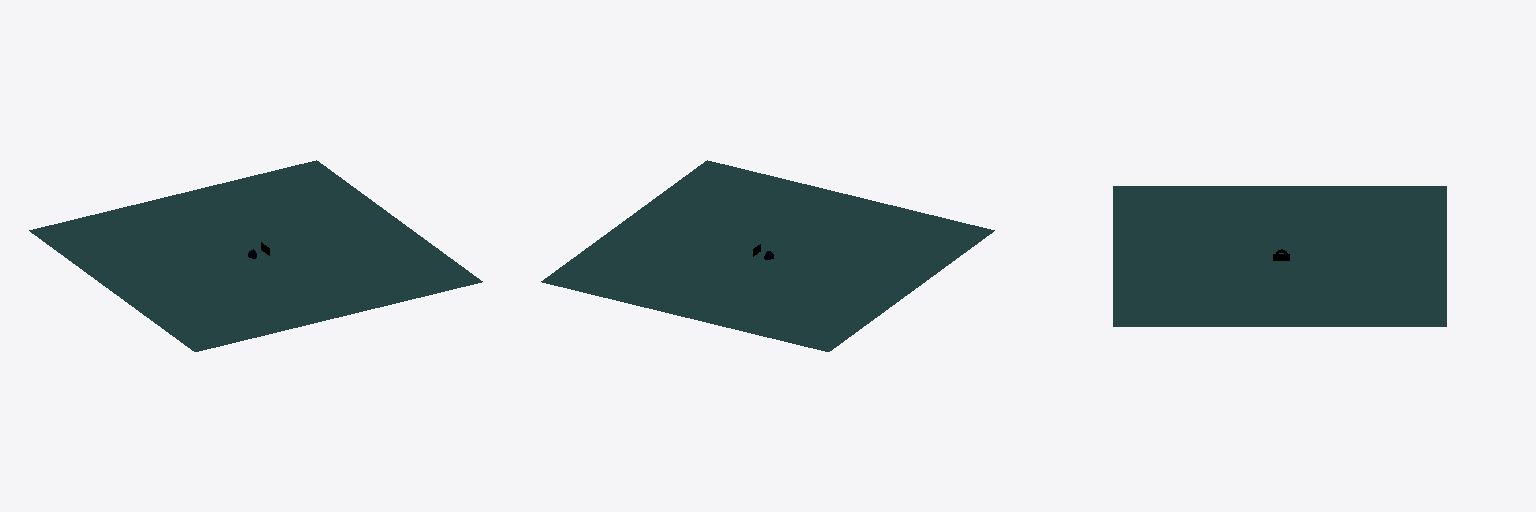
3 views of the same model, side by side, from view 1: azimuth 30°, elevation 25°; view 2: azimuth 150°, elevation 25°; view 3: azimuth 270°, elevation 25° (orthographic).
Parts seen in each view (by area): view 1: Floor_Plane; view 2: Floor_Plane; view 3: Floor_Plane.
Boxes of the visible parts, x1,y1,x2,y2 form: Floor_Plane: [29, 160, 482, 351]; Floor_Plane: [541, 160, 994, 351]; Floor_Plane: [1113, 186, 1446, 326].
Size of the model in its own units: 200 by 10 by 200.